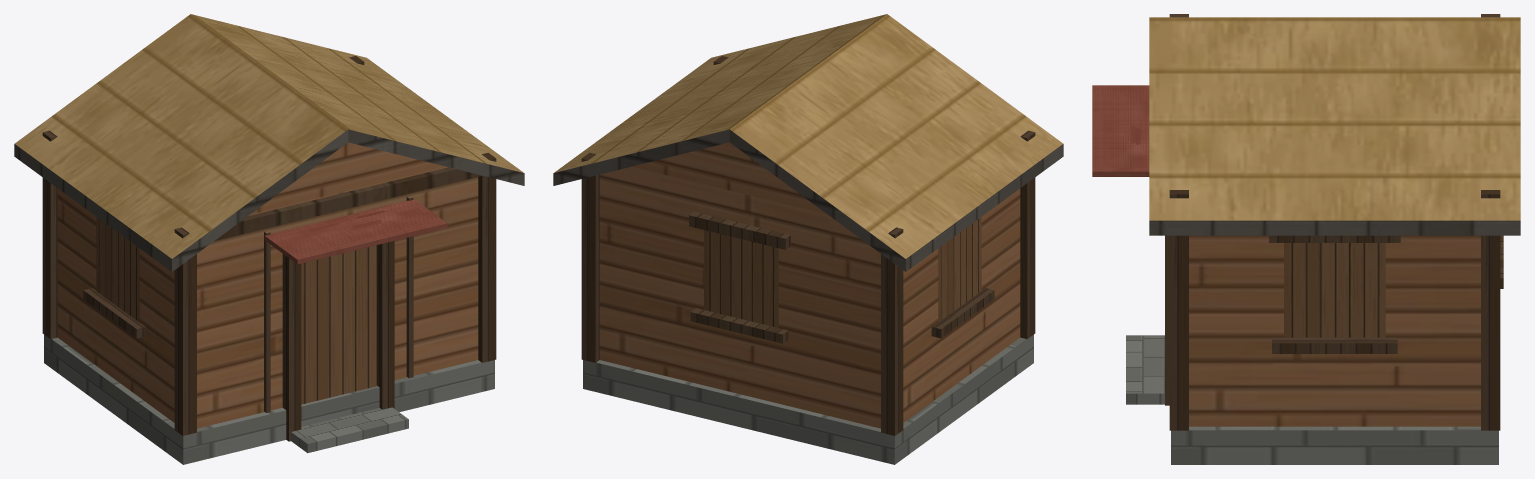
File: ae_sand_wood_small_booth_lod0.glb
The picture shows the model from 3 angles, left to right: view 1: azimuth 30°, elevation 25°; view 2: azimuth 150°, elevation 25°; view 3: azimuth 270°, elevation 25°; orthographic projection. The views are drawn at different scales.
Visible parts, largest first — view 1: ae_sand_wood_small_booth_lod0; view 2: ae_sand_wood_small_booth_lod0; view 3: ae_sand_wood_small_booth_lod0.
Boxes of the visible parts, x1,y1,x2,y2 form: ae_sand_wood_small_booth_lod0: (14, 14, 524, 464); ae_sand_wood_small_booth_lod0: (553, 14, 1063, 464); ae_sand_wood_small_booth_lod0: (1092, 14, 1520, 464).
Bounding box in the file's own units: 4 × 3.3 × 3.58.
1 material, 1 textured.
